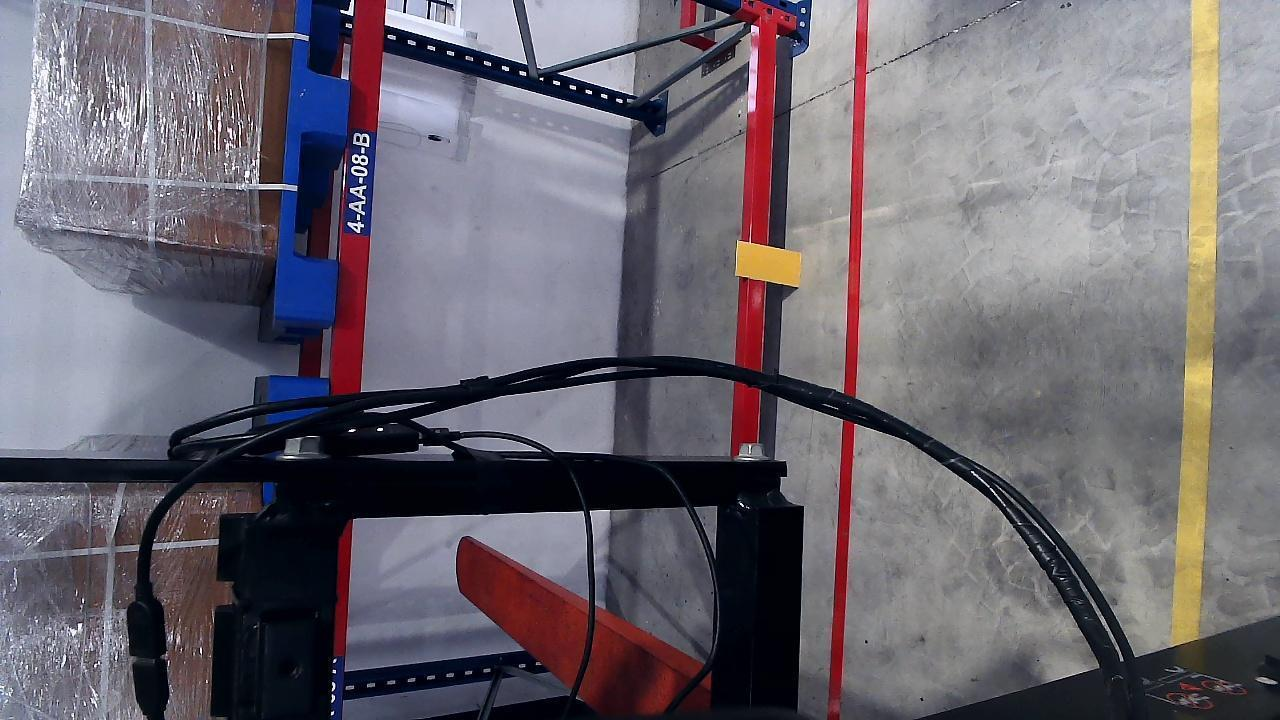red_line: (824, 2, 868, 717)
yellow_line: (1166, 0, 1221, 645)
